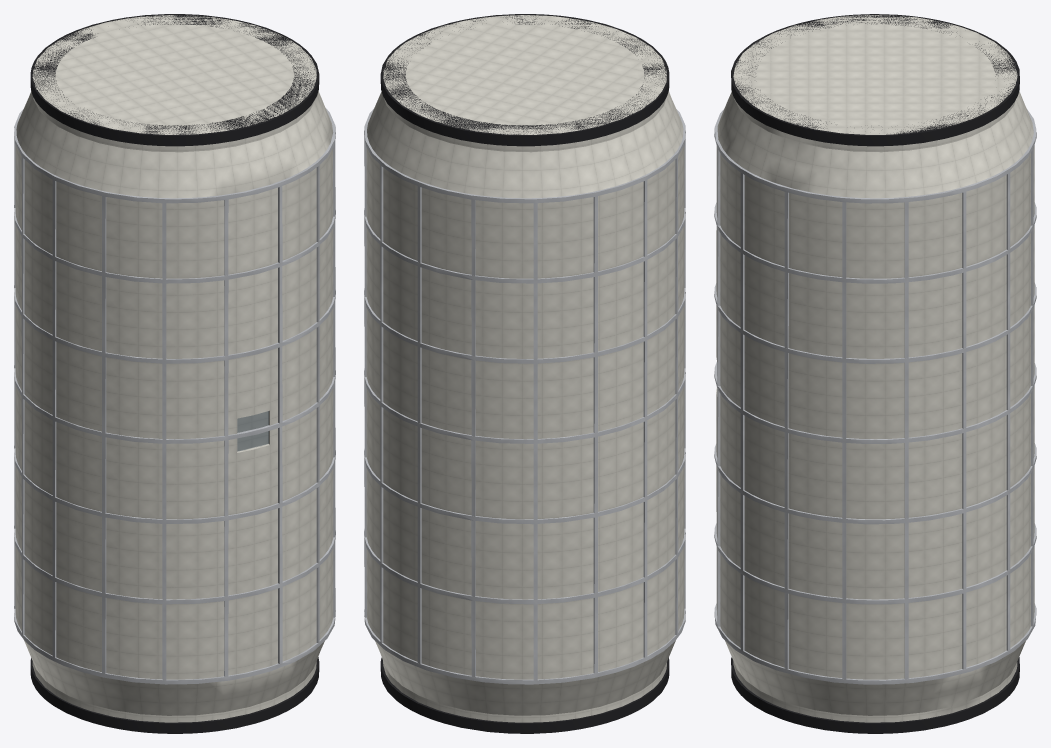
File: station00_hab_module.glb
The picture shows the model from 3 angles, left to right: view 1: azimuth 30°, elevation 25°; view 2: azimuth 150°, elevation 25°; view 3: azimuth 270°, elevation 25°; orthographic projection.
Visible parts, largest first — view 1: pressure_hull, mmod_grid, end_rings, window; view 2: pressure_hull, mmod_grid, end_rings; view 3: pressure_hull, mmod_grid, end_rings.
Boxes of the visible parts, x1,y1,x2,y2 form: pressure_hull: (15, 15, 333, 722); mmod_grid: (14, 108, 335, 684); end_rings: (30, 14, 319, 733); window: (237, 411, 268, 451); pressure_hull: (366, 15, 684, 722); mmod_grid: (364, 109, 685, 684); end_rings: (380, 14, 669, 733); pressure_hull: (716, 15, 1034, 722); mmod_grid: (714, 108, 1036, 684); end_rings: (731, 14, 1019, 733).
Bounding box in the file's own units: 4.25 × 8.7 × 4.25.
Materials: 4 (2 with a texture image).
